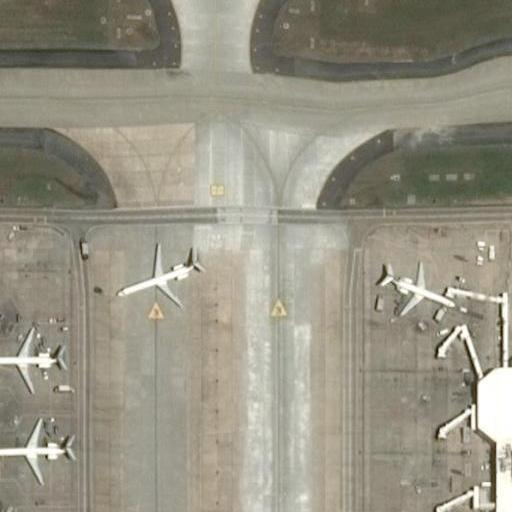Aircraft: (108, 246, 207, 313), (373, 256, 465, 325), (0, 411, 82, 487), (0, 323, 70, 389)
